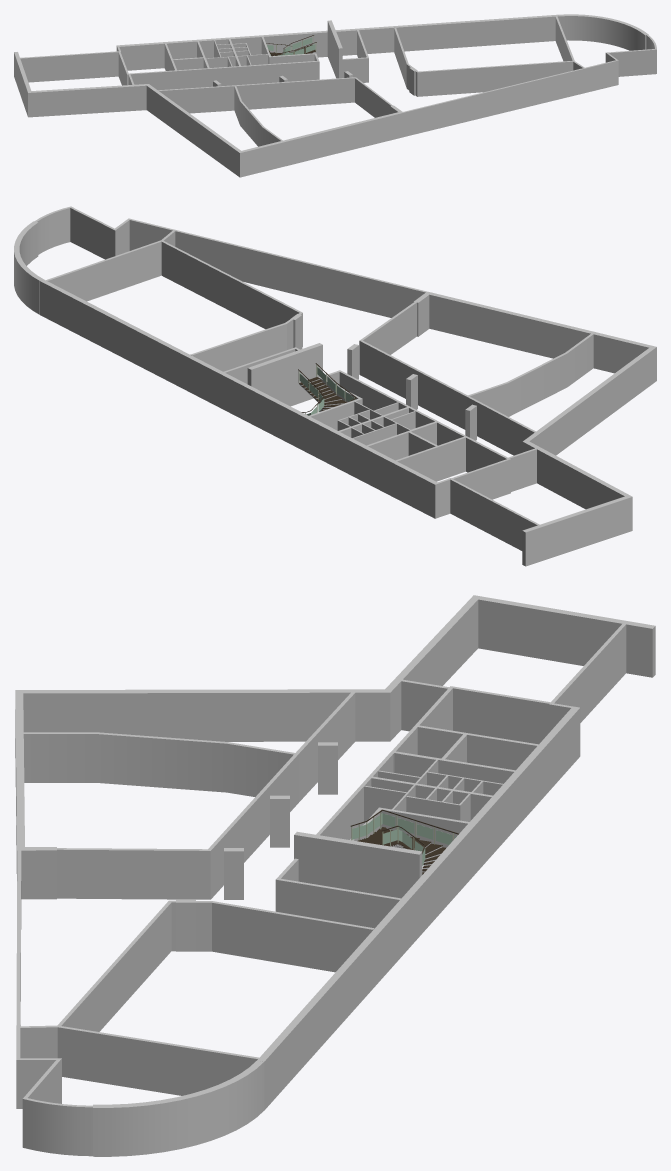
The picture shows the model from 3 angles, top to bottom: view 1: azimuth 30°, elevation 25°; view 2: azimuth 150°, elevation 25°; view 3: azimuth 270°, elevation 25°; orthographic projection. The views are drawn at different scales.
Visible parts, largest first — view 1: Wall, Wall.004, Wall.005, Wall.002, Wall.011, Wall.009, Wall.001, Wall.008, Wall.003, Wall.021, Wall.010, Wall.020 (+2 smaller); view 2: Wall, Wall.004, Wall.005, Wall.011, Wall.002, Wall.009, Wall.001, Wall.010, Wall.003, Wall.008, Wall.017, Stair (+3 smaller); view 3: Wall, Wall.002, Wall.011, Wall.004, Wall.008, Wall.009, Wall.005, Wall.010, Wall.021, Wall.001, Wall.017, Stair (+11 smaller).
Part boxes in pixels (x1=…): Wall: x1=14, y1=52, x2=403, y2=177; Wall.004: x1=116, y1=14, x2=558, y2=70; Wall.005: x1=403, y1=34, x2=656, y2=136; Wall.002: x1=234, y1=77, x2=392, y2=146; Wall.011: x1=394, y1=16, x2=574, y2=96; Wall.009: x1=118, y1=36, x2=319, y2=90; Wall.001: x1=19, y1=45, x2=121, y2=82; Wall.008: x1=558, y1=14, x2=648, y2=50; Wall.003: x1=157, y1=85, x2=234, y2=113; Wall.021: x1=342, y1=30, x2=368, y2=82; Wall.010: x1=327, y1=20, x2=342, y2=78; Wall.020: x1=206, y1=54, x2=268, y2=67; Wall: x1=413, y1=291, x2=656, y2=566; Wall.004: x1=40, y1=279, x2=439, y2=518; Wall.005: x1=34, y1=206, x2=426, y2=317; Wall.011: x1=45, y1=240, x2=302, y2=371; Wall.002: x1=359, y1=301, x2=593, y2=429; Wall.009: x1=308, y1=370, x2=510, y2=499; Wall.001: x1=434, y1=478, x2=541, y2=550; Wall.010: x1=247, y1=343, x2=322, y2=406; Wall.003: x1=467, y1=396, x2=536, y2=455; Wall.008: x1=14, y1=221, x2=43, y2=314; Wall.017: x1=396, y1=436, x2=466, y2=481; Stair: x1=298, y1=363, x2=356, y2=415; Wall: x1=15, y1=595, x2=655, y2=899; Wall.002: x1=21, y1=732, x2=298, y2=899; Wall.011: x1=56, y1=900, x2=374, y2=1095; Wall.004: x1=257, y1=706, x2=580, y2=1110; Wall.008: x1=93, y1=1060, x2=264, y2=1156; Wall.009: x1=316, y1=686, x2=551, y2=865; Wall.005: x1=16, y1=850, x2=92, y2=1156; Wall.010: x1=294, y1=831, x2=422, y2=898; Wall.021: x1=275, y1=858, x2=401, y2=928; Wall.001: x1=549, y1=622, x2=626, y2=732; Wall.017: x1=415, y1=725, x2=539, y2=770; Stair: x1=350, y1=809, x2=458, y2=874.
Bounding box in the file's own units: 60.71 × 4.1 × 32.05.
